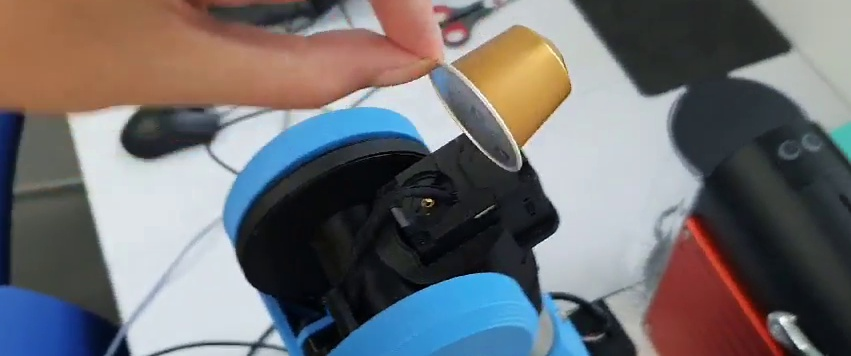capsule_8: (429, 18, 578, 175)
